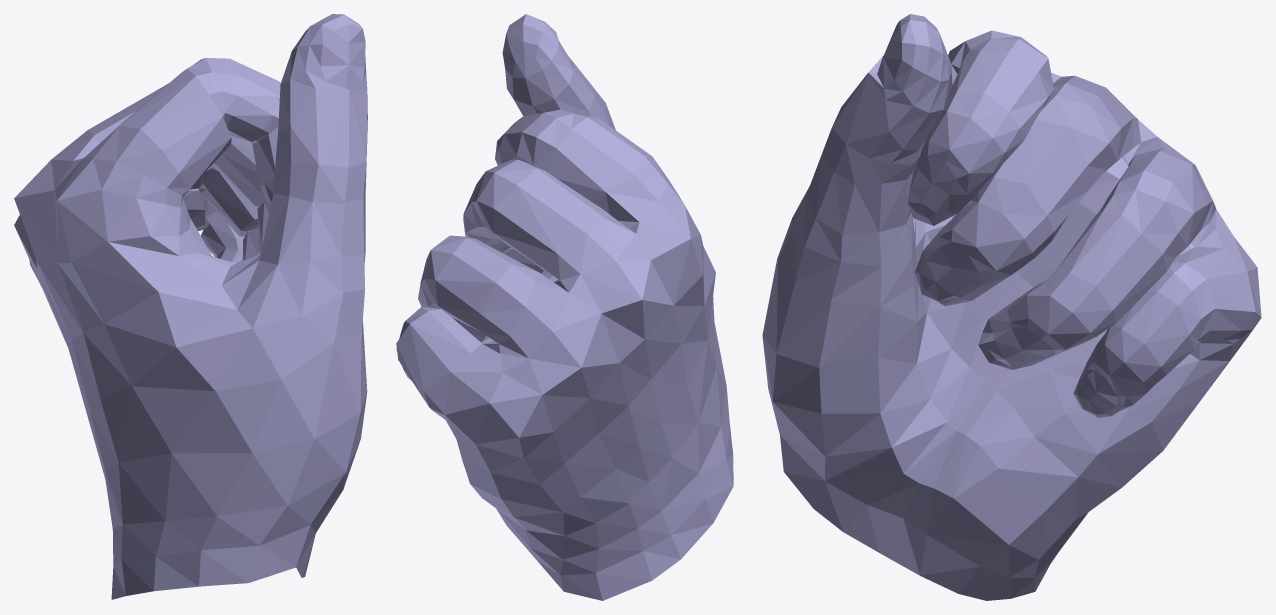
Rendered from frame_0034_source_000034_hand.glb.
3 views of the same model, side by side, from view 1: azimuth 30°, elevation 25°; view 2: azimuth 150°, elevation 25°; view 3: azimuth 270°, elevation 25° (orthographic). The views are drawn at different scales.
Parts seen in each view (by area): view 1: world; view 2: world; view 3: world.
Boxes of the visible parts, bbox=[...] form: world: bbox=[14, 14, 367, 599]; world: bbox=[396, 14, 733, 600]; world: bbox=[762, 14, 1261, 600].
Bounding box in the file's own units: 0.062 × 0.128 × 0.0927.
